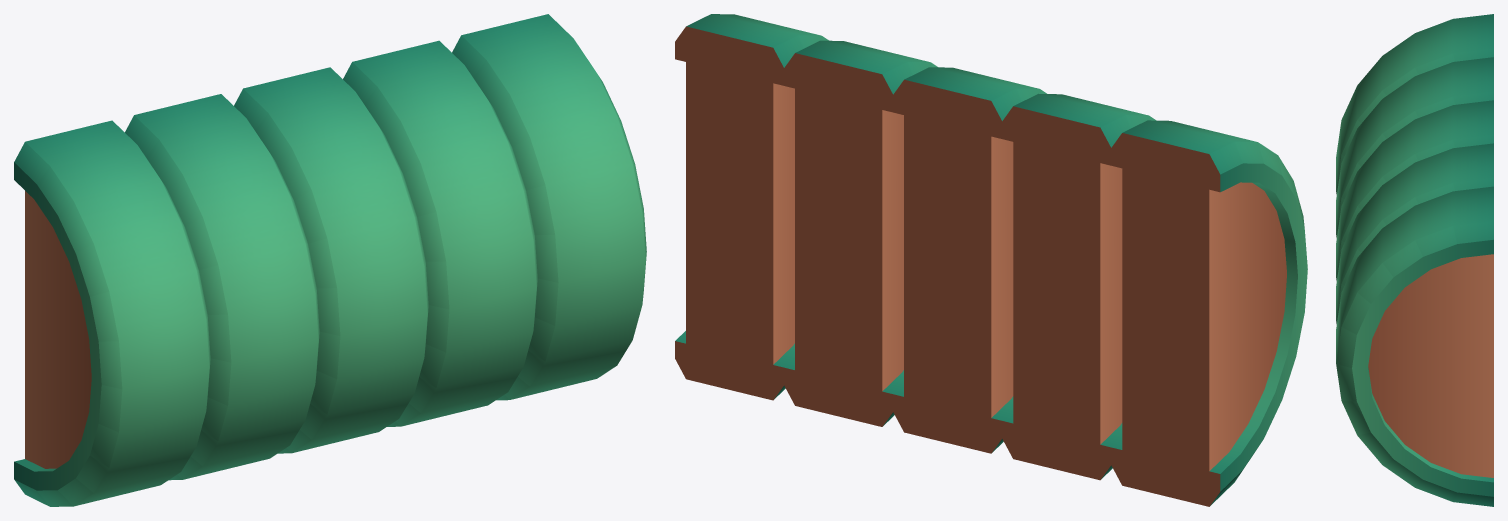
Rendered from island-flip-cap.glb.
3 renders of one model, left to right at view 1: azimuth 30°, elevation 25°; view 2: azimuth 150°, elevation 25°; view 3: azimuth 270°, elevation 25°, orthographic. The views are drawn at different scales.
Parts seen in each view (by area): view 1: island-flip-cap; view 2: island-flip-cap; view 3: island-flip-cap.
Part boxes in pixels (x1=…): island-flip-cap: x1=14, y1=14, x2=646, y2=506; island-flip-cap: x1=675, y1=14, x2=1307, y2=506; island-flip-cap: x1=1336, y1=14, x2=1493, y2=506.
Bounding box in the file's own units: 30.4 × 18.8 × 9.4.
1 material, 1 textured.
